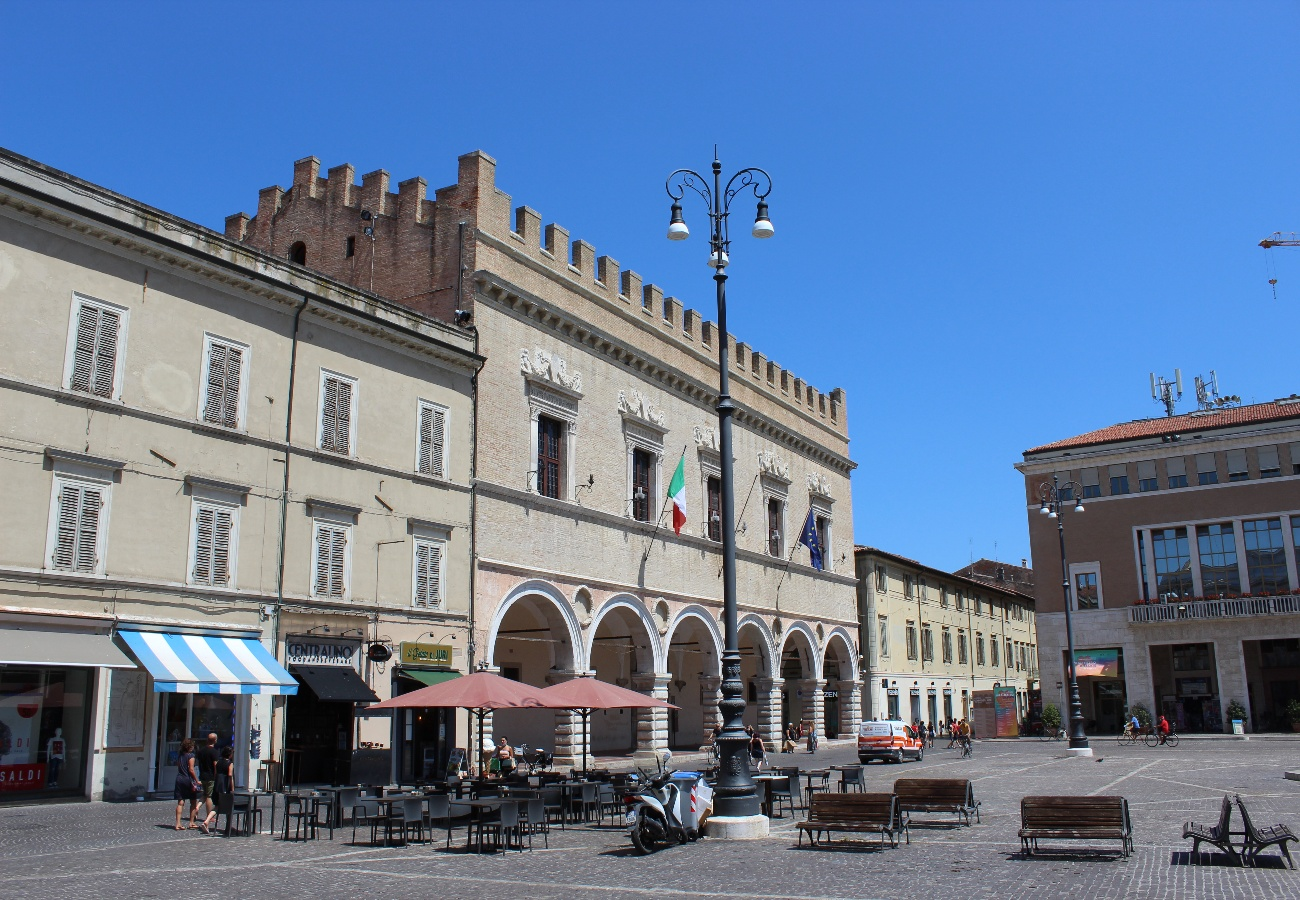Palazzo Ducale: (473, 211, 847, 760)
